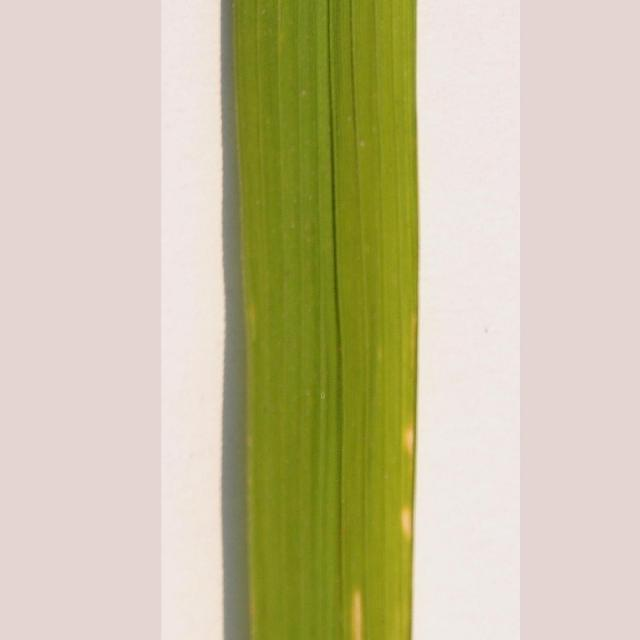leaf blight: (399, 428, 422, 538), (337, 577, 374, 640)
